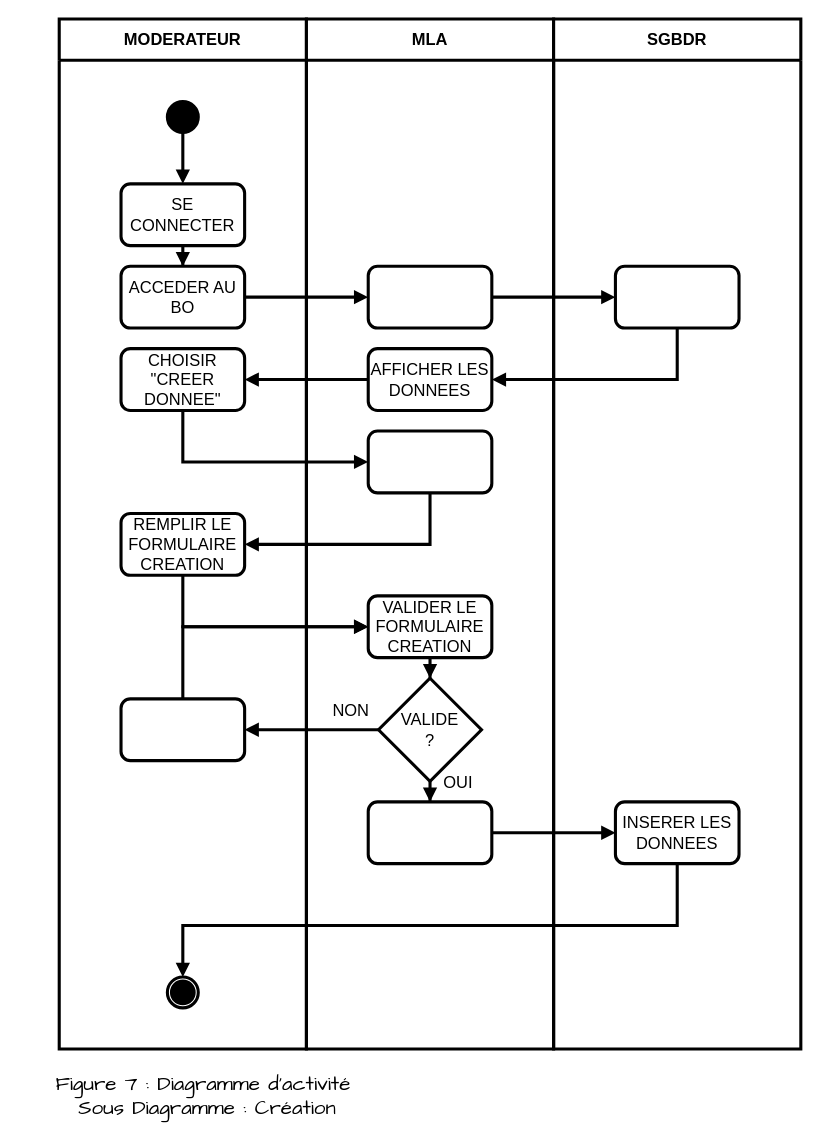
The diagram is 820 pixels wide and 1139 high, and some of its shapes have lost their labels. Here are the shapes that lost their labels. From the top down, the box of each, then its label:
(366, 264, 493, 329): AFFICHER BO
(613, 264, 740, 329): REMONTER LES DONNEES
(366, 429, 493, 494): AFFICHER LE FORMULAIRE CREATION
(119, 697, 246, 762): CORRIGER LE FORMULAIRE CREATION
(366, 800, 493, 865): ENVOYER LE FORMULAIRE CREATION
